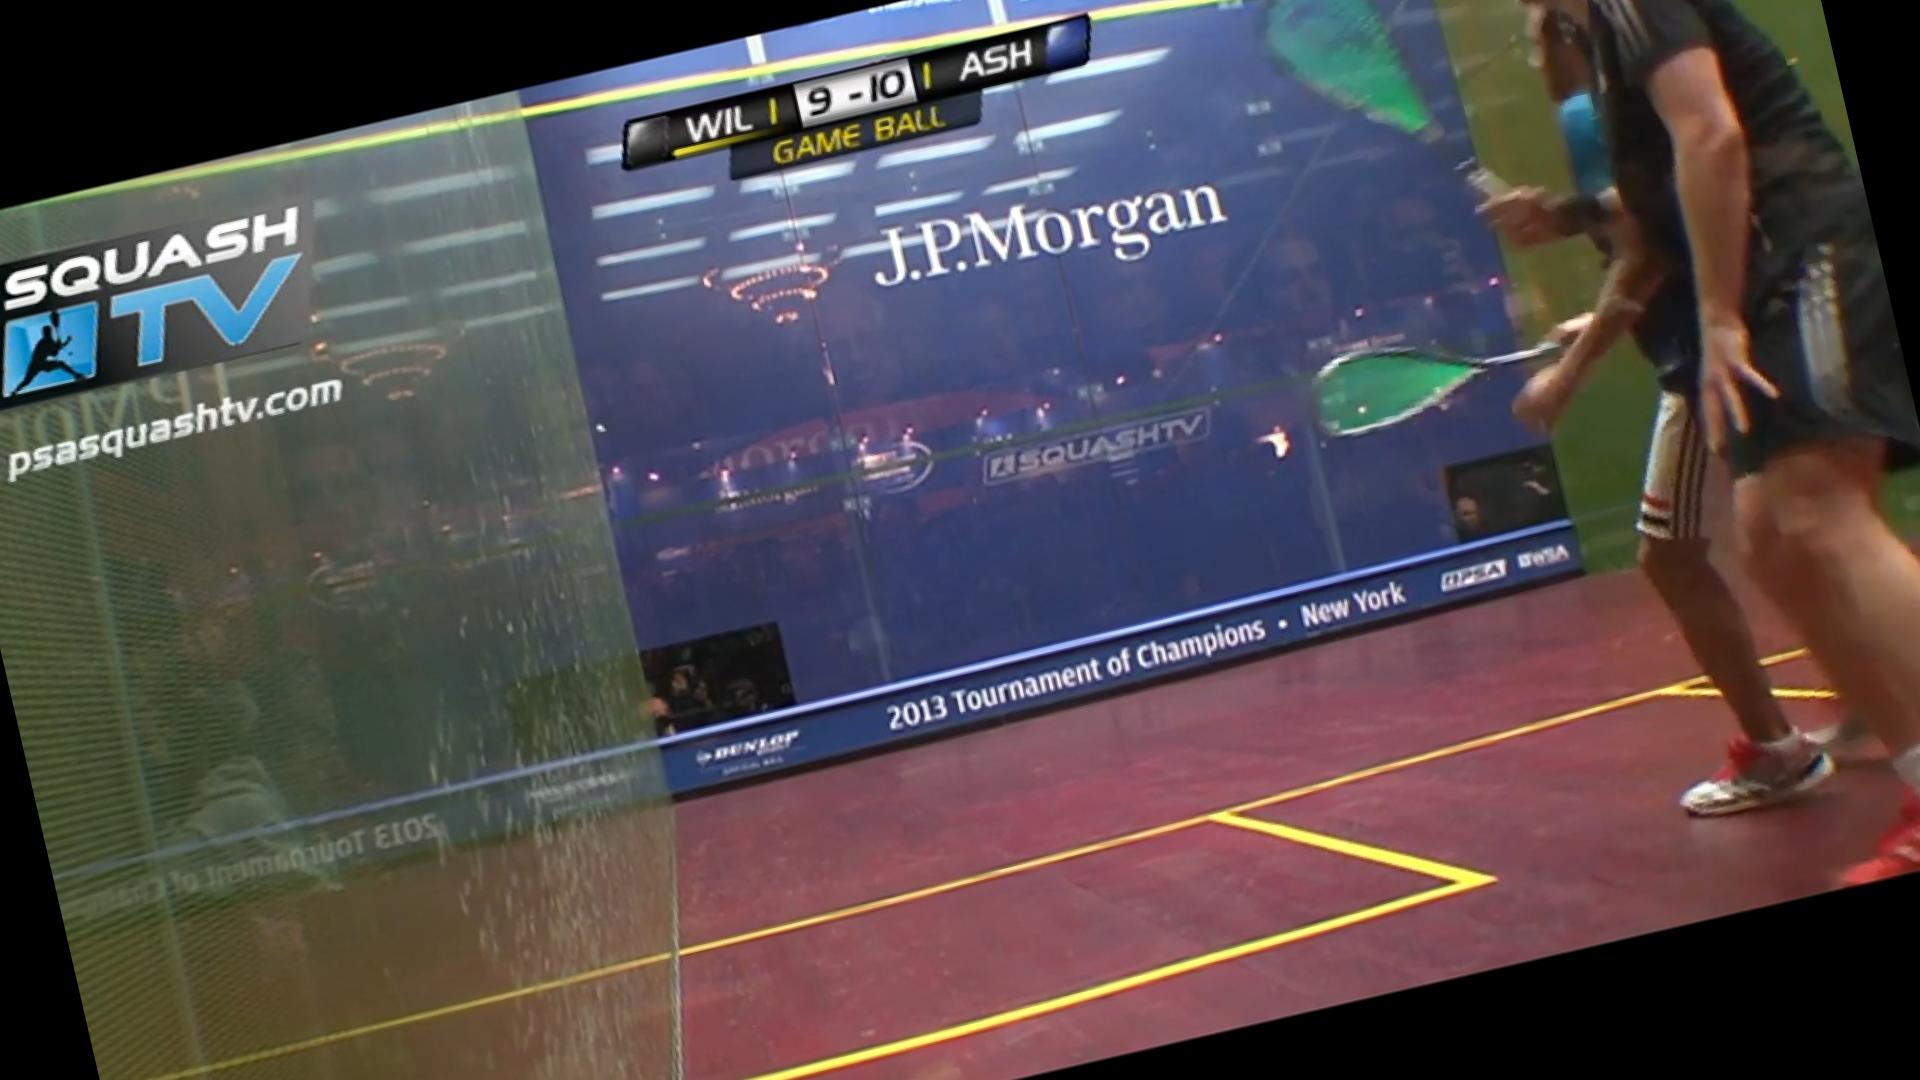Squash-Ball: (588, 414, 618, 446)
